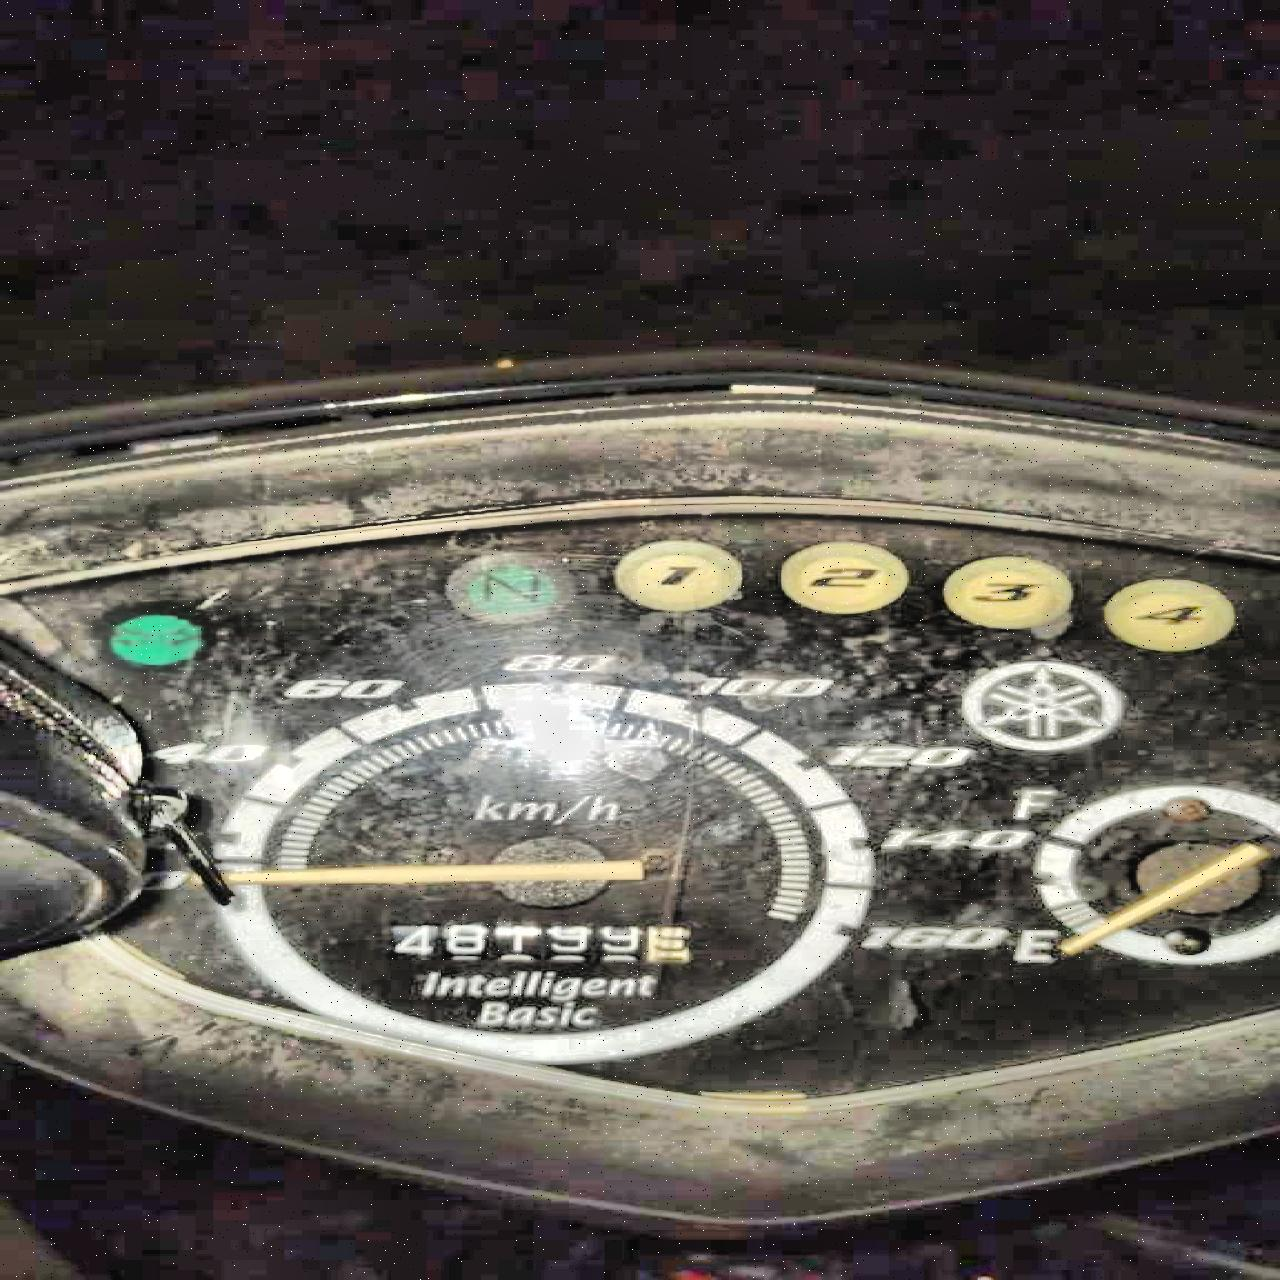1: (509, 925, 523, 951)
4: (392, 924, 433, 955)
8: (444, 922, 484, 953)
9: (598, 921, 640, 953), (546, 921, 586, 953), (651, 922, 689, 949)
odometer: (380, 920, 696, 965)
